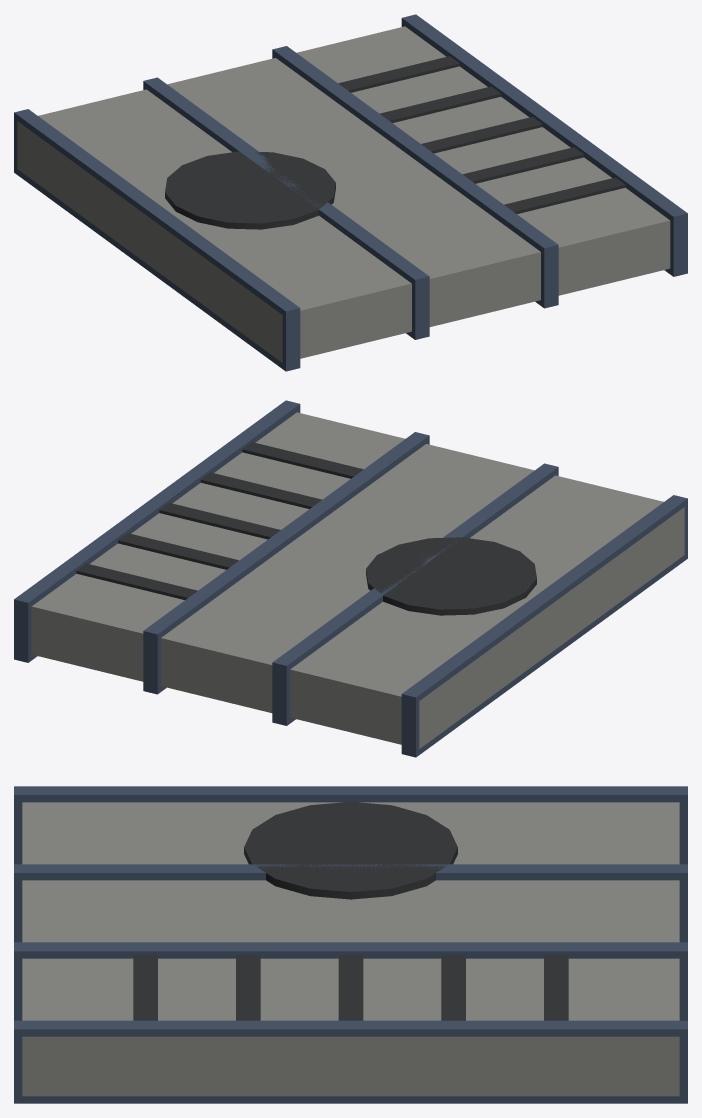
The model's file is kz6_climate.obj.
3 renders of one model, top to bottom at view 1: azimuth 30°, elevation 25°; view 2: azimuth 150°, elevation 25°; view 3: azimuth 270°, elevation 25°, orthographic. The views are drawn at different scales.
Visible parts, largest first — view 1: kz6_climate; view 2: kz6_climate; view 3: kz6_climate.
Part boxes in pixels (<box>): kz6_climate: <box>14,14,687,371</box>; kz6_climate: <box>14,400,687,757</box>; kz6_climate: <box>14,786,687,1103</box>.
Size of the model in its own units: 1.4 by 0.2 by 1.64.
